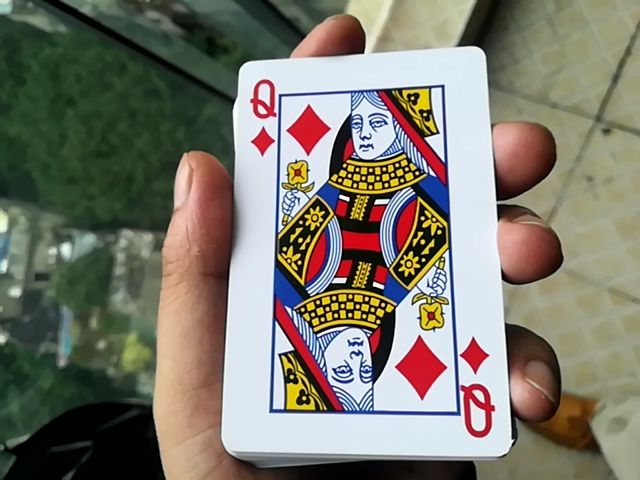fk q: (204, 52, 522, 466)
